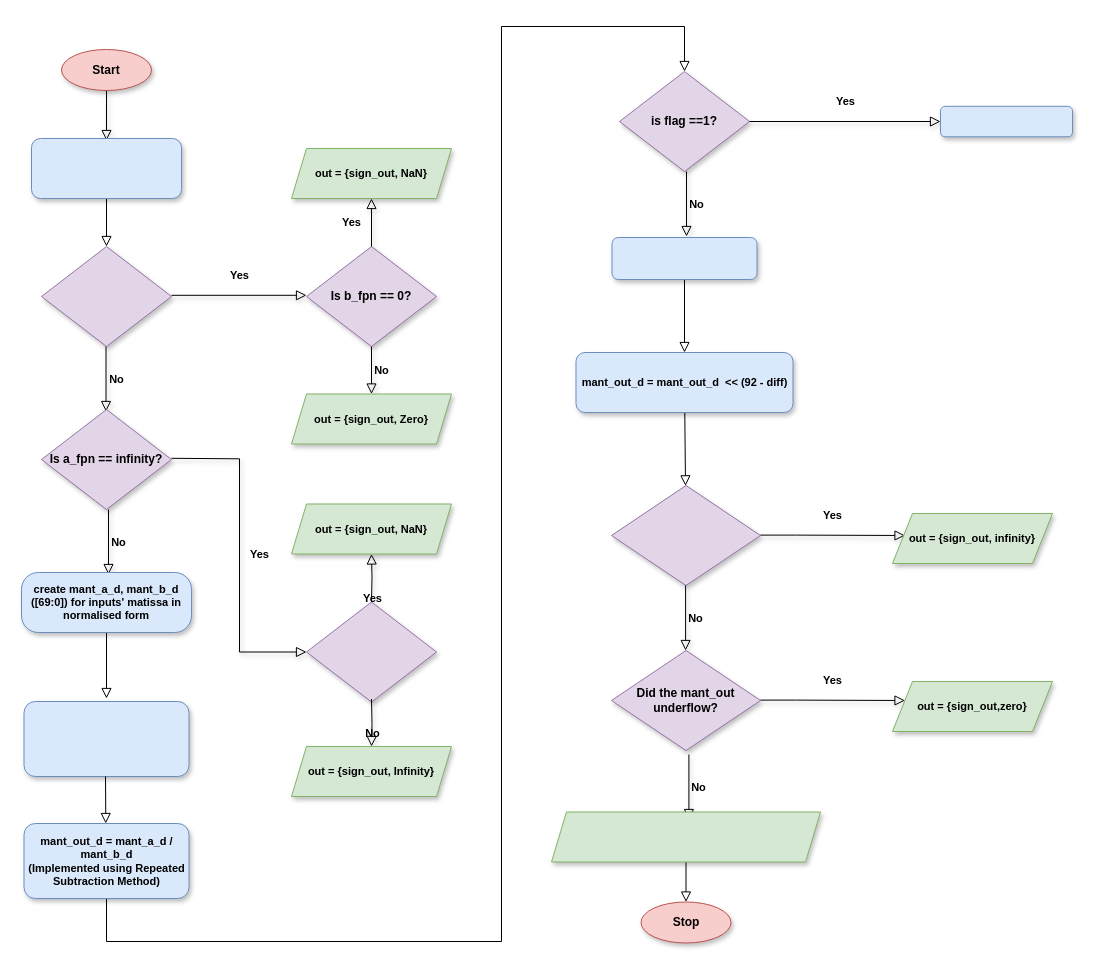
This 1096x969 diagram has some shape labels left out. The centre of each missing label's shape, as x and y in pixels:
Did the mant_out overflow?: [686,536]
diff = (3*diff): [1007,122]
diff = (3*diff) - 1: [685,259]
diff = |exp_a - exp_b| mant_b_d = mant_b_d>>3*diff flag = 1 (if deno>num): [107,740]
Is a_fpn == 0?: [107,298]
Is b_fpn == 0 or infinity?: [372,653]
out = {sign_out, exp_out_final, mant_out_final}: [686,838]
sign_out = sign_a ^ sign_b: [107,170]
